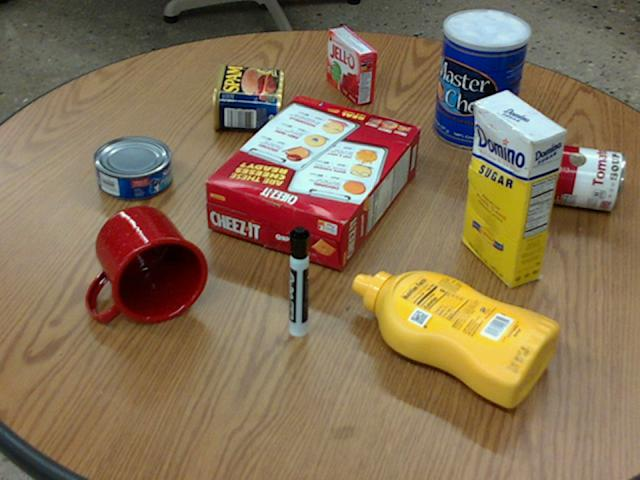cracker_box: (204, 96, 419, 270)
gelatin_box: (327, 26, 376, 103)
large_marker: (287, 225, 308, 336)
master_chef_can: (433, 9, 530, 148)
mug: (85, 206, 206, 322)
mustard_bottle: (352, 270, 557, 406)
potted_meat_can: (211, 62, 283, 129)
sugar_box: (463, 90, 564, 288)
tomato_soup_can: (521, 139, 622, 209)
tuna_fish_can: (93, 135, 171, 198)
